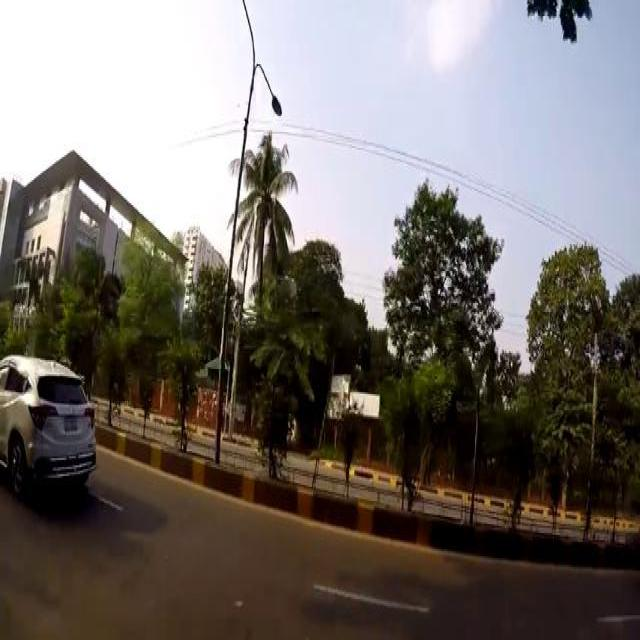car: (0, 354, 96, 486)
